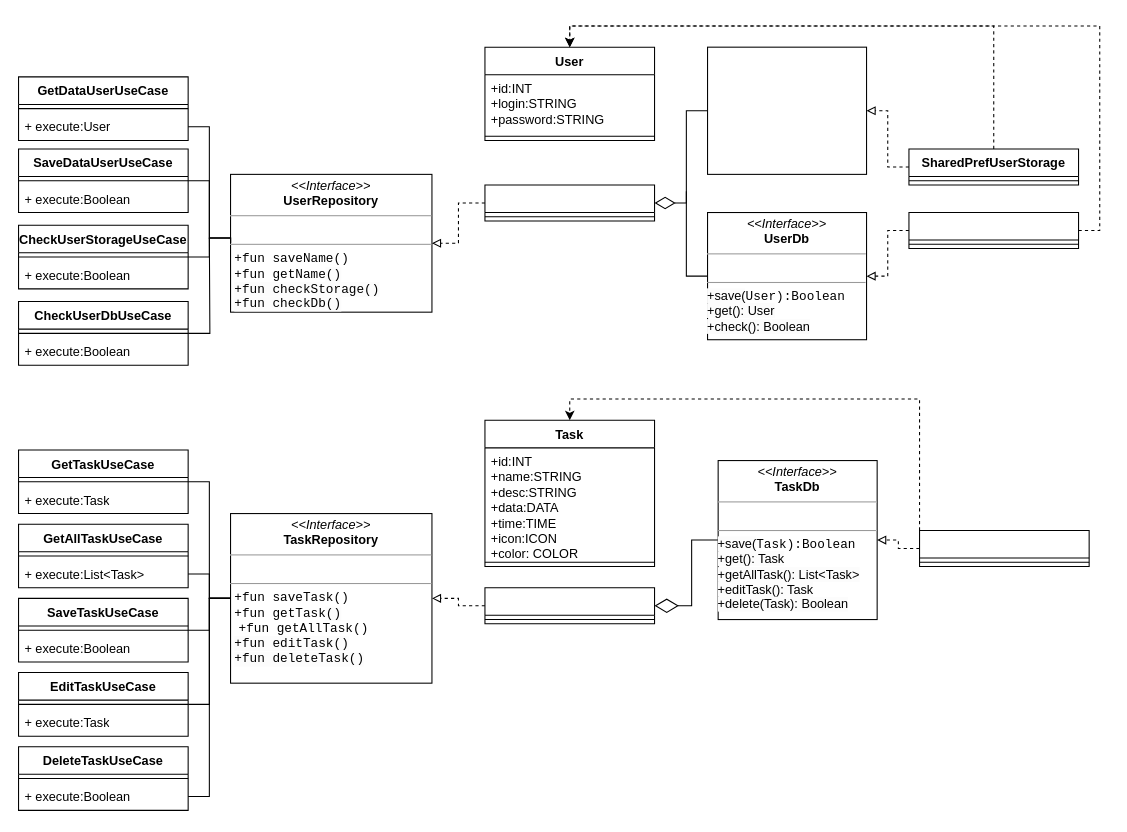
Image size: 1127x832. Some labels were removed from this diagram. The centre of each missing label's shape, as x and y in pixels:
"<<Interface>> UserStorage +save( User):Boolean +get(): User +check(): Boolean" goes at pixel 786 110.
"DbfUser" goes at pixel 993 230.
"DbTask" goes at pixel 1003 548.
"TaskReposImpl" goes at pixel 569 605.
"UserReposImpl" goes at pixel 569 202.
